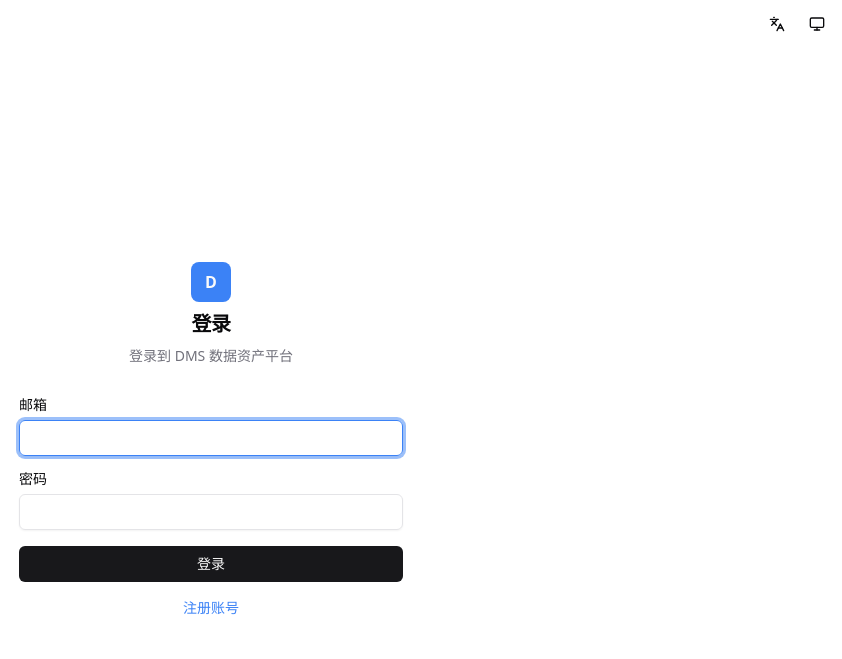
Test case: LoginPage › shows an error message on invalid credentials
Type "admin@acme.test" into the field labelled "邮箱" at (211, 438), box [19,420,403,456]
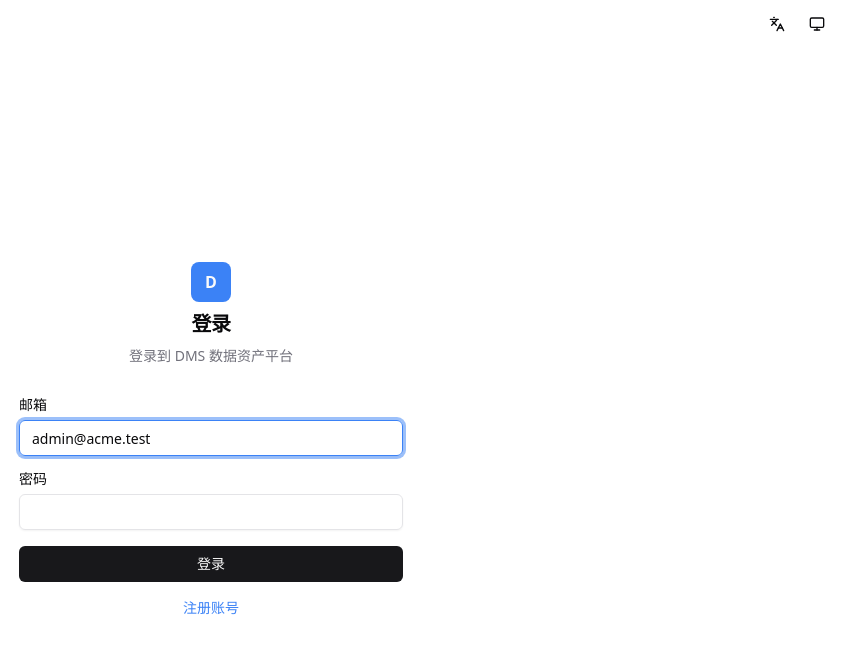
Type "wrong" into the password field labelled "密码" at (211, 512), box [19,494,403,530]
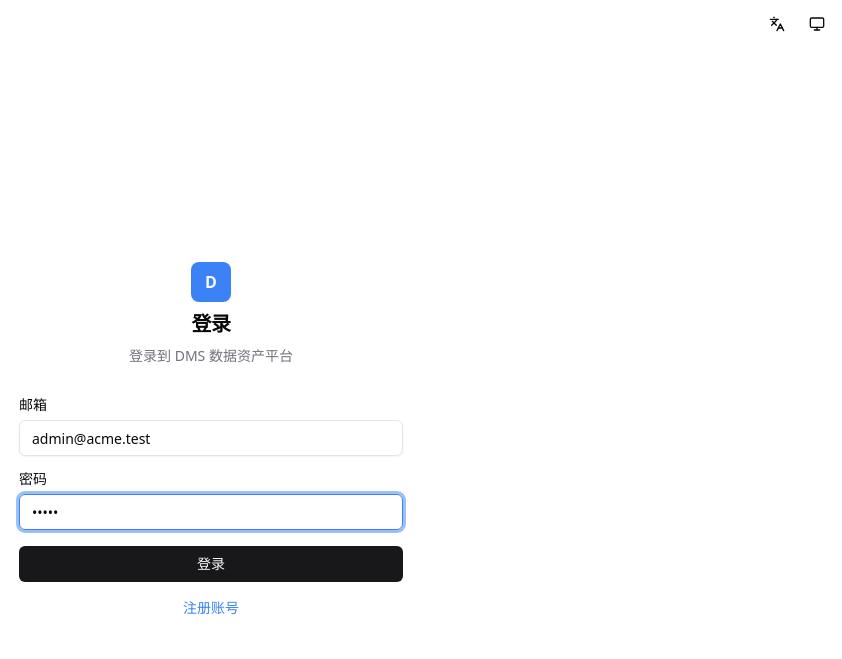
Click the button "登录" at (211, 564), box [19,546,403,582]
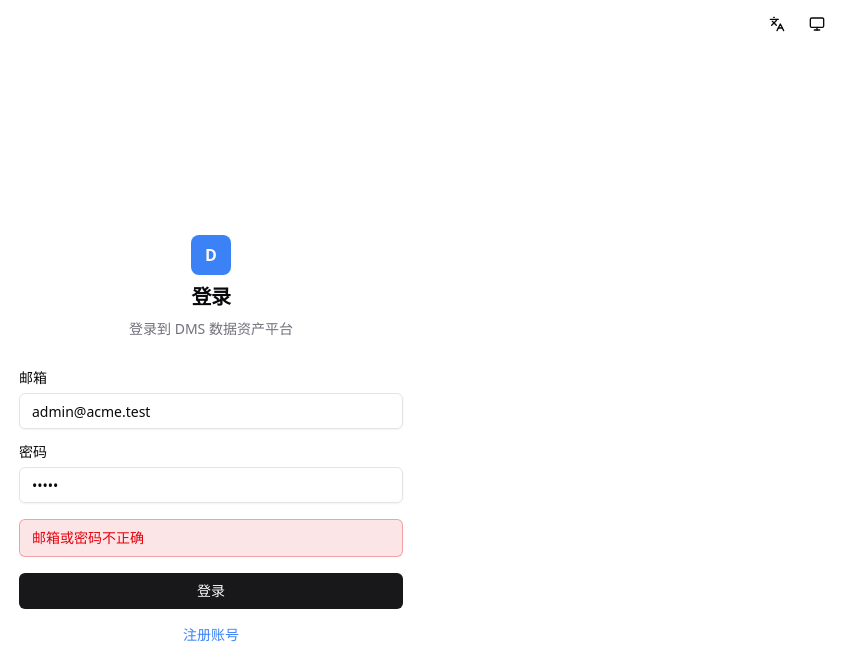
Now the text "邮箱或密码不正确" is shown, box [19,519,403,557]
